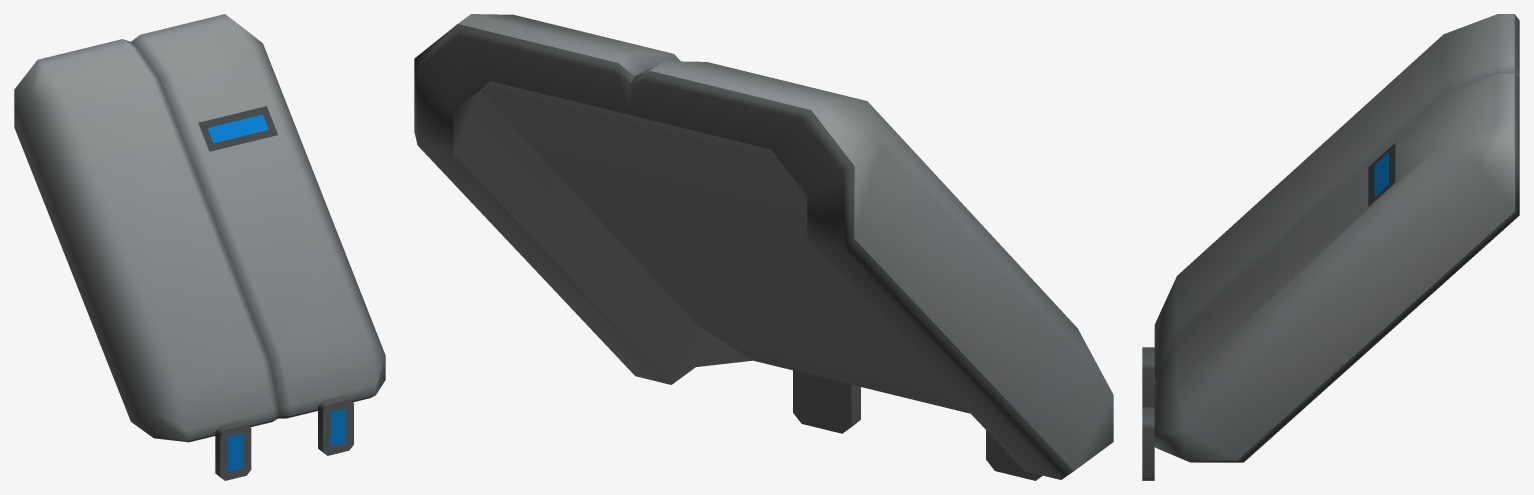
The model's file is Crate_006_cap_001.fbx.
3 views of the same model, side by side, from view 1: azimuth 30°, elevation 25°; view 2: azimuth 150°, elevation 25°; view 3: azimuth 270°, elevation 25° (orthographic). The views are drawn at different scales.
Visible parts, largest first — view 1: Crate_006_cap_001; view 2: Crate_006_cap_001; view 3: Crate_006_cap_001.
Part boxes in pixels (left/top/right/bottom): Crate_006_cap_001: left=14, top=14, right=385, bottom=480; Crate_006_cap_001: left=414, top=14, right=1113, bottom=480; Crate_006_cap_001: left=1142, top=14, right=1519, bottom=480.
Bounding box in the file's own units: 44.97 × 52.69 × 57.93.
